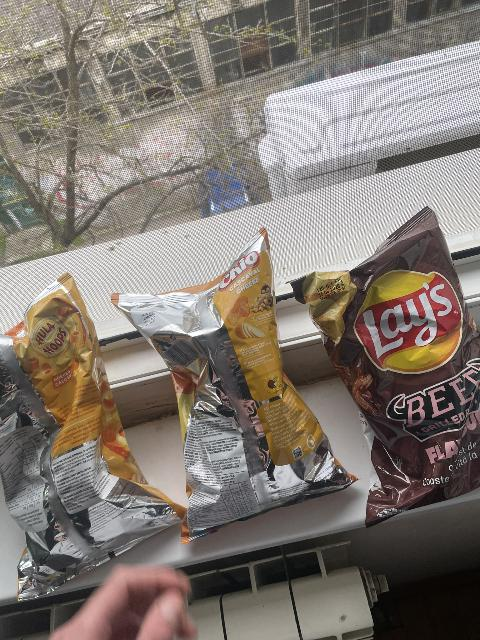Chio Cascaval 125g: (112, 230, 356, 544)
Chio Hula Hoops Cheese 70g: (0, 275, 190, 601)
Lays Beef Grilled Ribs 125g: (285, 204, 480, 528)
